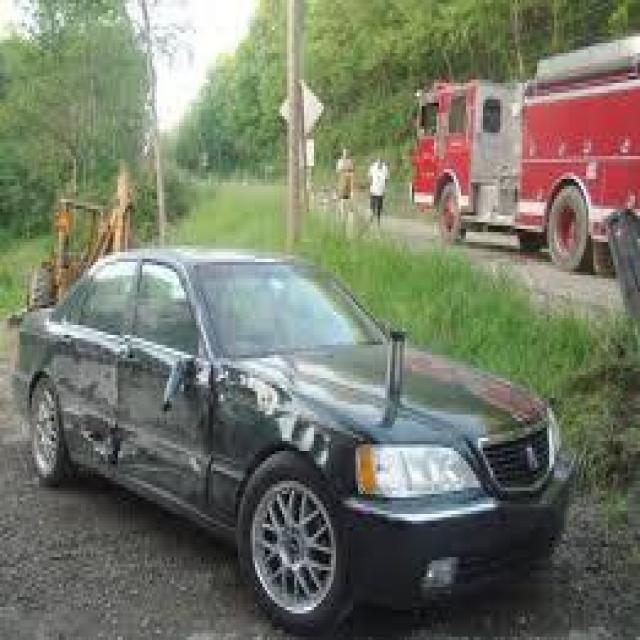damaged: (56, 335, 280, 504)
